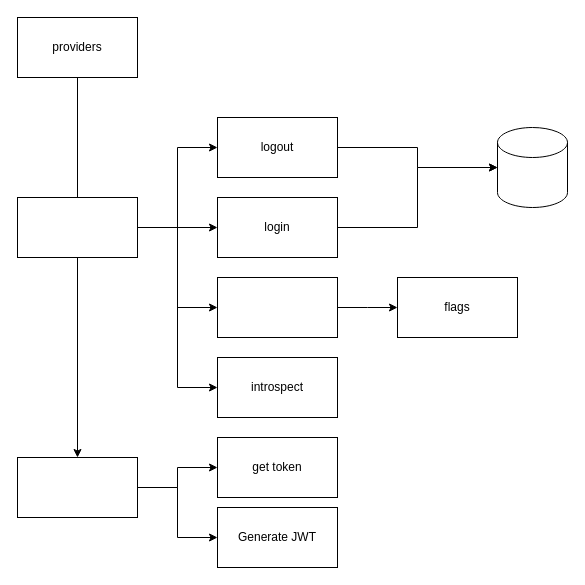
Image size: 585x585. Some labels were removed from this diagram. Each missing label, with the centre of its shape:
/token: [277,307]
Credential Manager: [532,167]
oauth: [77,227]
service: [77,487]
